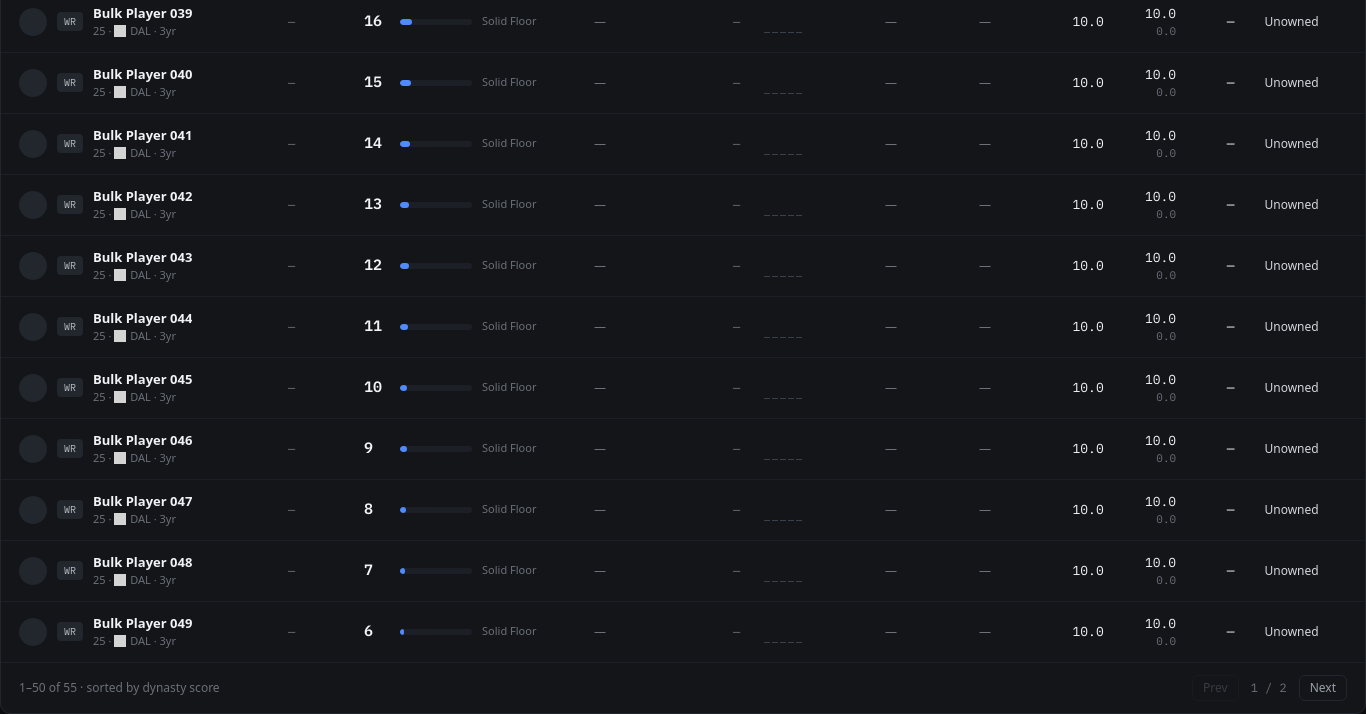
it: Market › filters (1b Slice vi) › changing a filter resets page to 1
(page scrolled)
Click the button "Next".
click(1323, 688)  # box 1299,674 -> 1347,700
(page scrolled)
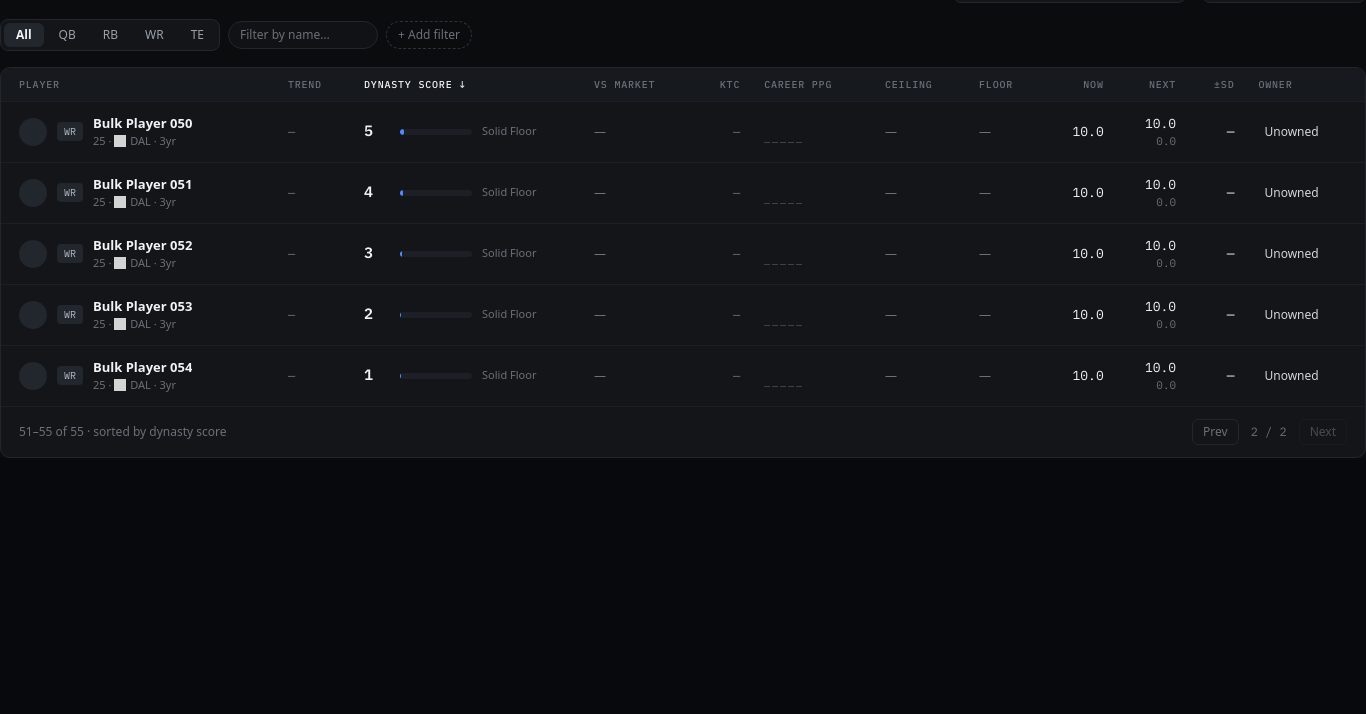
Result: the text "51–55 of 55 · sorted by dynasty score" is shown at 19,424 -> 226,440
Click the button "+ Add filter".
click(429, 34)  # box 386,20 -> 472,48
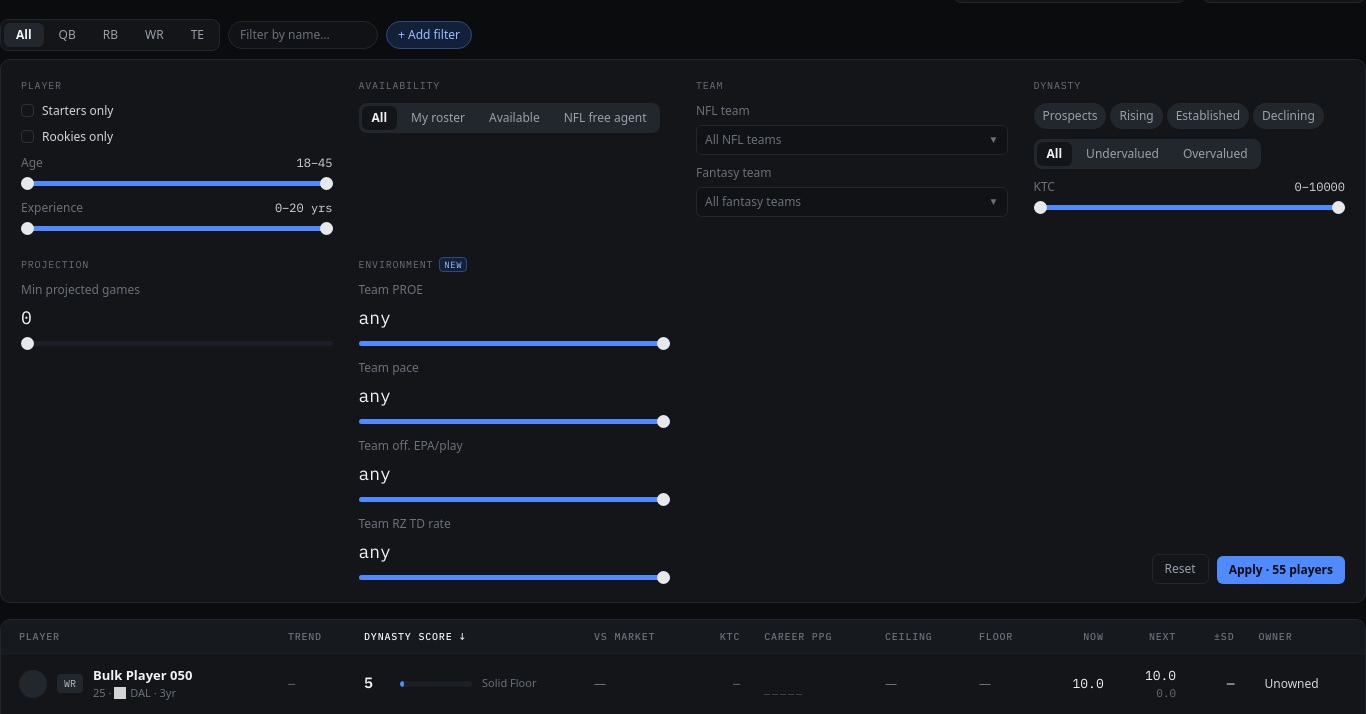
Set the slider named "Age minimum" to "20" at (51, 183), box 21,176 -> 332,190
(page scrolled)
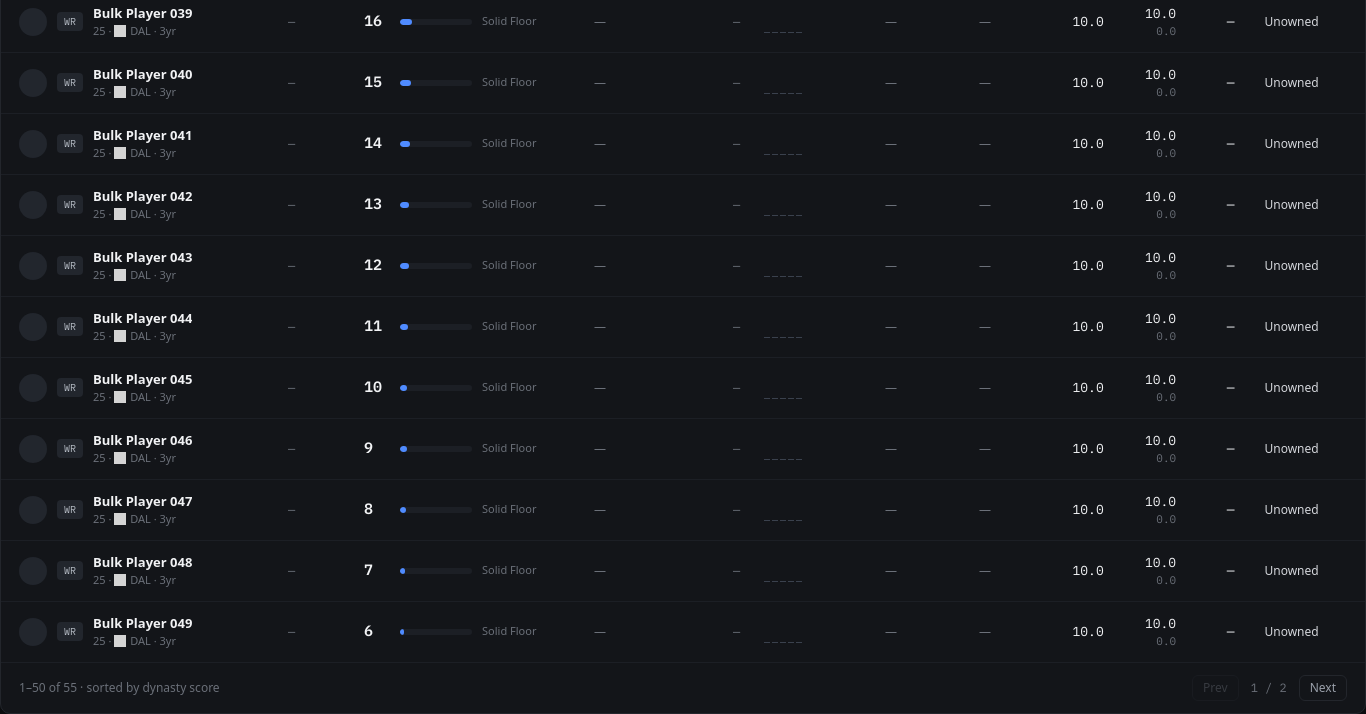
Result: the text "1–50 of 55 · sorted by dynasty score" is shown at 19,680 -> 220,696
